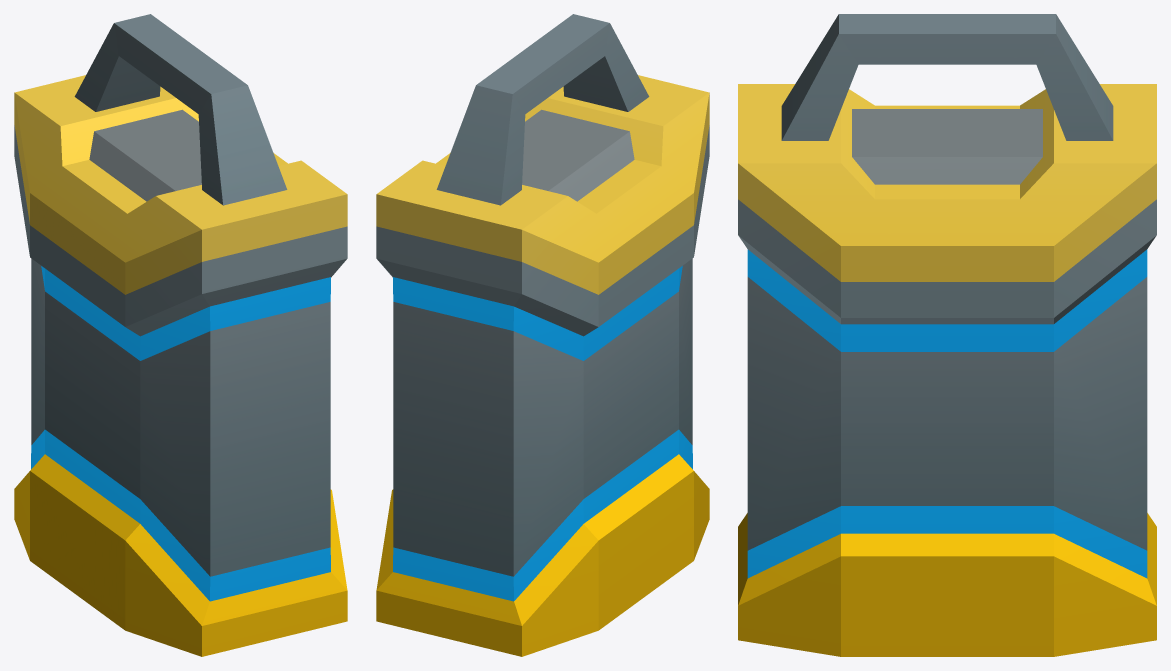
File: Battery_010.glb
3 renders of one model, left to right at view 1: azimuth 30°, elevation 25°; view 2: azimuth 150°, elevation 25°; view 3: azimuth 270°, elevation 25°, orthographic. The views are drawn at different scales.
Parts seen in each view (by area): view 1: Battery_010; view 2: Battery_010; view 3: Battery_010.
Boxes of the visible parts, x1,y1,x2,y2 form: Battery_010: (14,14,347,656); Battery_010: (376,14,709,656); Battery_010: (738,14,1156,656).
Size of the model in its own units: 0.331 by 0.7904 by 0.5201.
2 materials, 2 textured.
